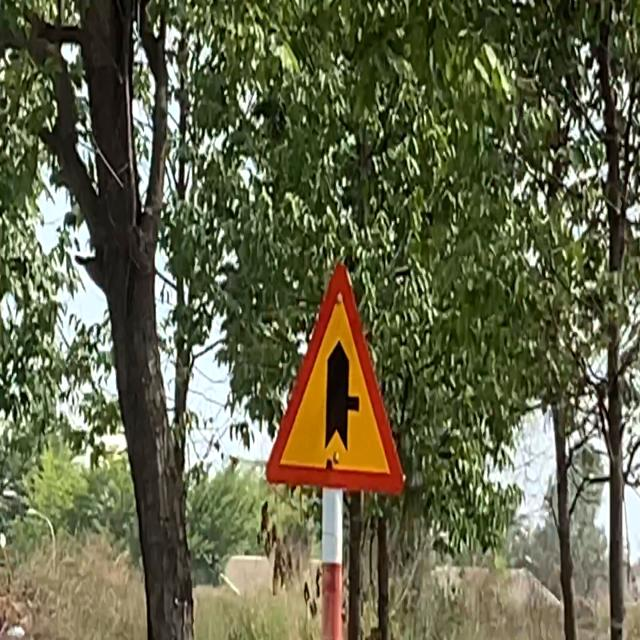Giao nhau voi duong khong uu tien ben phai: (256, 248, 410, 506)
